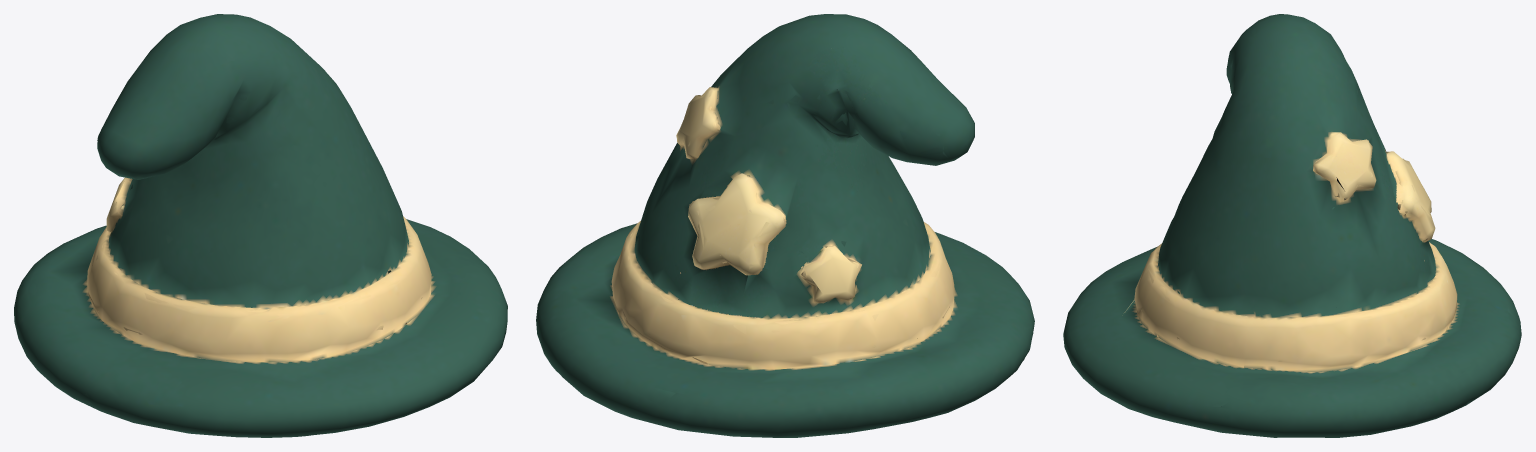
File: wizard_hat.glb
3 renders of one model, left to right at view 1: azimuth 30°, elevation 25°; view 2: azimuth 150°, elevation 25°; view 3: azimuth 270°, elevation 25°, orthographic. The views are drawn at different scales.
Parts seen in each view (by area): view 1: wizard_hat; view 2: wizard_hat; view 3: wizard_hat.
Part boxes in pixels (x1=…): wizard_hat: x1=14, y1=14, x2=507, y2=437; wizard_hat: x1=536, y1=14, x2=1034, y2=437; wizard_hat: x1=1063, y1=14, x2=1521, y2=437.
Size of the model in its own units: 0.8943 by 0.6782 by 0.8972.
1 material, 1 textured.
